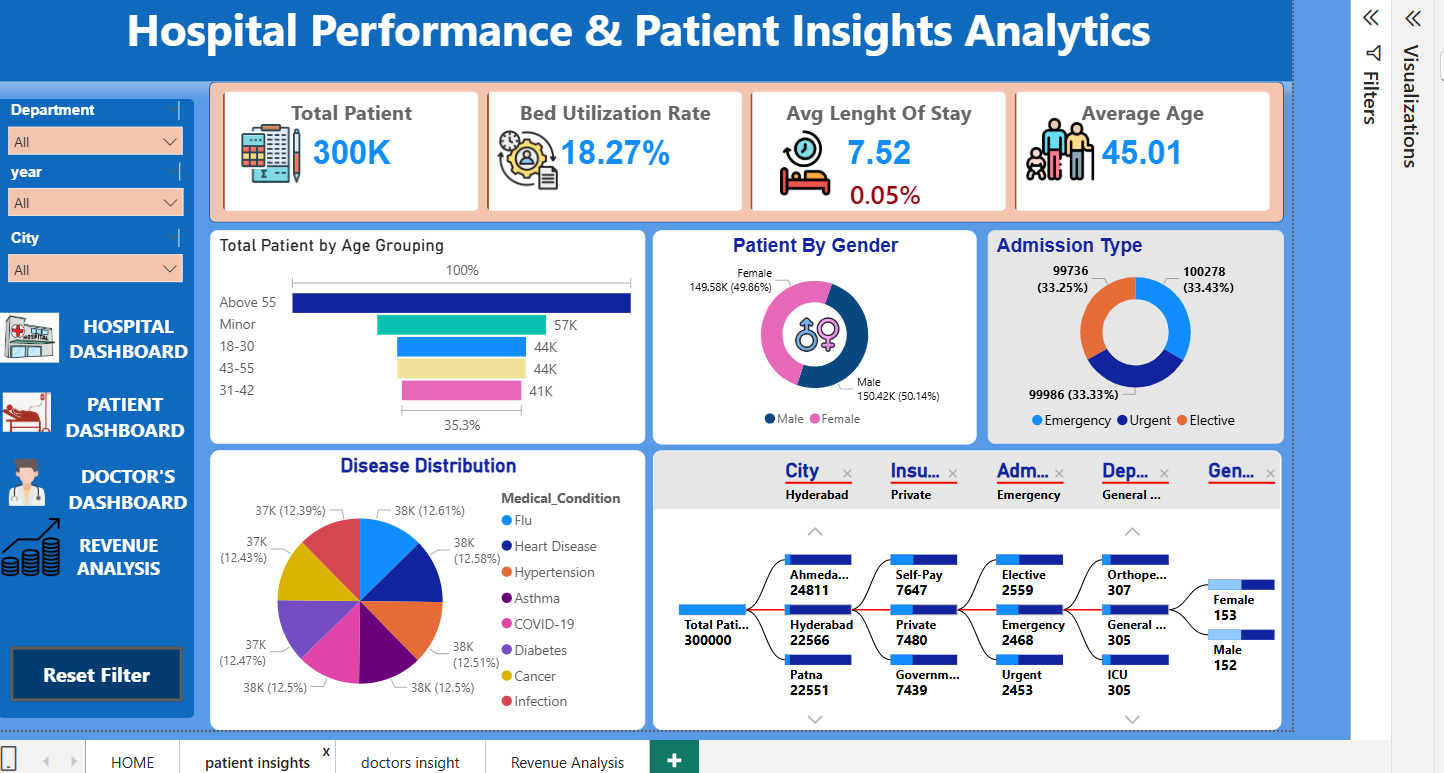

Layout of this report page (visuals, bound fields, positions):
{"tool":"powerbi","page":{"name":"patient insights","canvas":[1280,720],"ordinal":1},"visuals":[{"type":"shape","box":[13.5,0,1266.9,85.6],"z":0},{"type":"slicer","fields":{"Values":["india_hospital_patients_300k_updated.Department"]},"box":[13.6,100,190.8,65.1],"z":0,"group":"g3"},{"type":"actionButton","box":[46.7,508.2,170.1,82],"z":0,"group":"g2"},{"type":"textbox","box":[0,0,1280.3,85.1],"z":1000},{"type":"slicer","fields":{"Values":["calender.year"]},"box":[13.6,160.5,191.4,65.4],"z":1000,"group":"g3"},{"type":"group","id":"g1","title":"Group 4","box":[13.5,294.7,203.9,229.7],"z":1000,"group":"g2"},{"type":"shape","box":[13.5,102.7,192,605.3],"z":2000},{"type":"slicer","fields":{"Values":["india_hospitals.City"]},"box":[13.6,224.5,190.8,65.1],"z":2000,"group":"g3"},{"type":"image","box":[17.7,508.2,56.7,65.1],"z":2000,"group":"g2"},{"type":"group","id":"g2","title":"Group 5","box":[13.5,294.7,204.2,295.9],"z":3000},{"type":"actionButton","box":[66.6,294.7,150.8,83.2],"z":3000,"group":"g1"},{"type":"shape","box":[220.1,85.6,1051.6,138.2],"z":4000},{"type":"image","box":[13.5,311.8,60.9,49.2],"z":4000,"group":"g6"},{"type":"cardVisual","fields":{"Data":["india_hospitals.Total Patient","india_hospitals.Bed Utilization Rate","india_hospitals.Avg Lenght Of Stay","patients.ave age"]},"box":[233.6,95.4,1026,117.4],"z":5000},{"type":"actionButton","box":[65,370.8,146.3,84.8],"z":5000,"group":"g6"},{"type":"image","box":[759.4,132.1,88,66],"z":6000},{"type":"image","box":[18.2,445.8,46.8,62.7],"z":6000,"group":"g6"},{"type":"image","box":[462.2,132.1,139.4,61.1],"z":7000},{"type":"image","box":[205.4,127.2,150.4,57.5],"z":8000},{"type":"image","box":[18.2,378.2,46.8,62.7],"z":8000,"group":"g6"},{"type":"image","box":[1007.6,118.6,90.5,66],"z":9000},{"type":"actionButton","box":[65.1,442.4,152,82],"z":9000,"group":"g5"},{"type":"funnel","fields":{"Category":["patients.Age Grouping"],"Y":["india_hospitals.Total Patient"]},"box":[221.3,231.1,425.5,209.1],"z":10000},{"type":"cardVisual","fields":{"Data":["patients.stay lenght growth rate"]},"box":[818.1,160.2,165.1,67.3],"z":11000},{"type":"group","id":"g3","title":"Group 2","box":[13.6,100,191.4,190.1],"z":12000},{"type":"pieChart","title":"Disease Distribution","fields":{"Category":["patients.Medical_Condition"],"Y":["india_hospitals.Total Patient"]},"box":[221.3,446.3,425.5,273.9],"z":13000},{"type":"donutChart","title":"Patient By Gender","fields":{"Y":["india_hospitals.Total Patient"],"Category":["patients.Gender"]},"box":[654.5,230.5,317,209.9],"z":14000,"group":"g4"},{"type":"decompositionTreeVisual","fields":{"Analyze":["india_hospitals.Total Patient"],"ExplainBy":["india_hospitals.City","patients.Insurance_Type","patients.Admission_Type","patients.Department","patients.Gender"]},"box":[654.2,446.1,615.1,273.9],"z":14000},{"type":"group","id":"g4","title":"Group 6","box":[654.5,230.5,317,209.9],"z":15000},{"type":"image","box":[793.4,301,42.9,62],"z":15000,"group":"g4"},{"type":"actionButton","box":[25.7,638.3,168.8,53.8],"z":16000},{"type":"donutChart","title":" Admission Type","fields":{"Category":["patients.Admission_Type"],"Y":["india_hospitals.Total Patient"]},"box":[982.5,230.5,289.5,208.6],"z":17000},{"type":"group","id":"g5","title":"Group 1","box":[13.5,311.8,203.6,212.6],"z":18000,"group":"g1"},{"type":"group","id":"g6","title":"Group 3","box":[13.5,311.8,197.9,196.6],"z":18001,"group":"g5"}]}

Visuals, with their boxes on the page's 1280x720 design canvas (x1, y1, x2, y2). These are canvas units, not pixel positions in the 1444x773 screenshot, which may show the page scaled, cropped or inside an application window:
shape: region(14, 0, 1280, 86)
slicer - india_hospital_patients_300k_updated.Department: region(14, 100, 204, 165)
actionButton: region(47, 508, 217, 590)
textbox: region(0, 0, 1280, 85)
slicer - calender.year: region(14, 160, 205, 226)
"Group 4" group: region(14, 295, 217, 524)
shape: region(14, 103, 206, 708)
slicer - india_hospitals.City: region(14, 224, 204, 290)
image: region(18, 508, 74, 573)
"Group 5" group: region(14, 295, 218, 591)
actionButton: region(67, 295, 217, 378)
shape: region(220, 86, 1272, 224)
image: region(14, 312, 74, 361)
cardVisual - india_hospitals.Total Patient x india_hospitals.Bed Utilization Rate: region(234, 95, 1260, 213)
actionButton: region(65, 371, 211, 456)
image: region(759, 132, 847, 198)
image: region(18, 446, 65, 508)
image: region(462, 132, 602, 193)
image: region(205, 127, 356, 185)
image: region(18, 378, 65, 441)
image: region(1008, 119, 1098, 185)
actionButton: region(65, 442, 217, 524)
funnel - patients.Age Grouping x india_hospitals.Total Patient: region(221, 231, 647, 440)
cardVisual - patients.stay lenght growth rate: region(818, 160, 983, 228)
"Group 2" group: region(14, 100, 205, 290)
"Disease Distribution" pieChart: region(221, 446, 647, 720)
"Patient By Gender" donutChart: region(654, 230, 972, 440)
decompositionTreeVisual - india_hospitals.Total Patient x india_hospitals.City: region(654, 446, 1269, 720)
"Group 6" group: region(654, 230, 972, 440)
image: region(793, 301, 836, 363)
actionButton: region(26, 638, 194, 692)
" Admission Type" donutChart: region(982, 230, 1272, 439)
"Group 1" group: region(14, 312, 217, 524)
"Group 3" group: region(14, 312, 211, 508)
